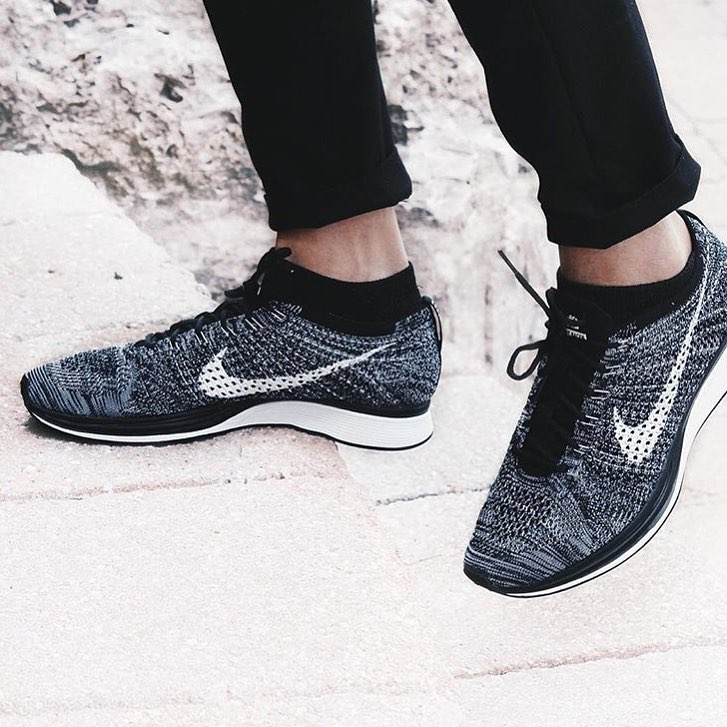sneaker: (2, 180, 474, 476), (428, 182, 727, 621)
